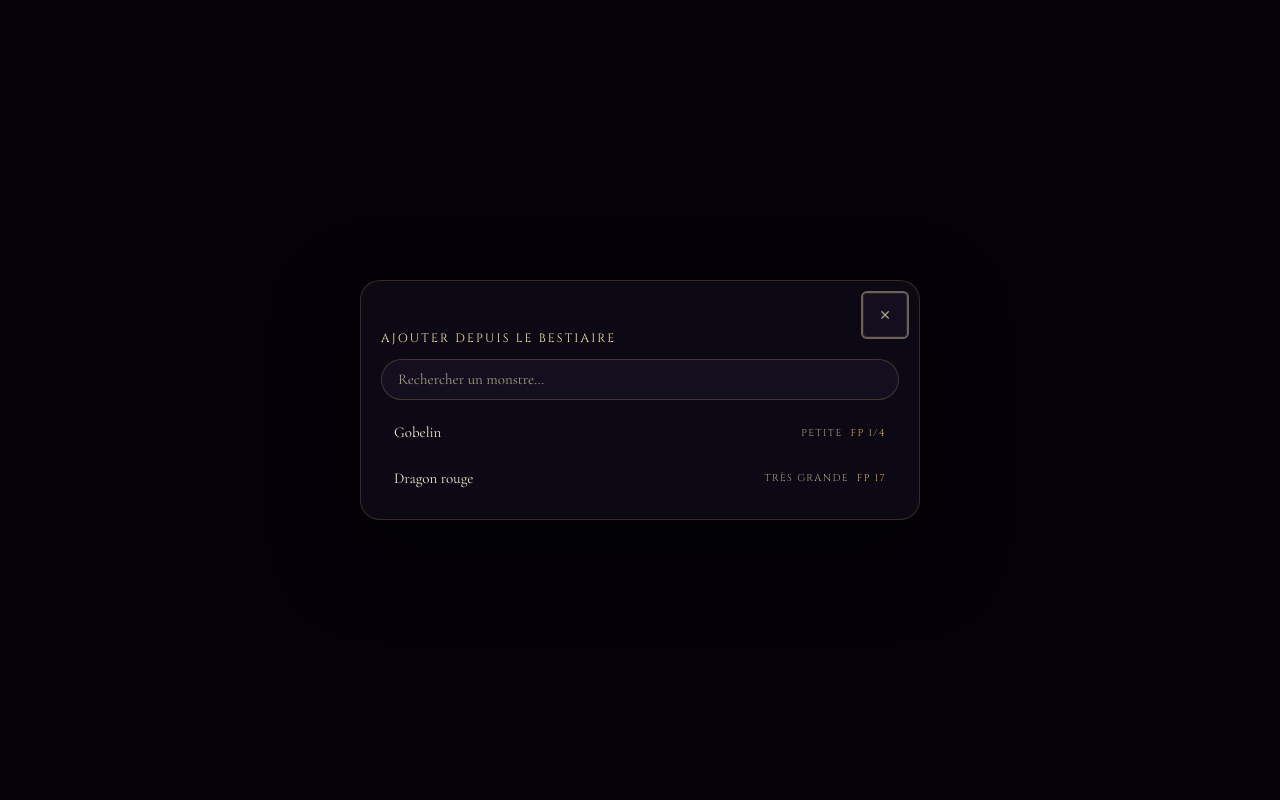
MonsterPickerModal › filtre par nom
This screenshot has width=1280, height=800.
In the search field labelled "Rechercher un monstre": (640, 380) [381,359,899,400], type "dragon"
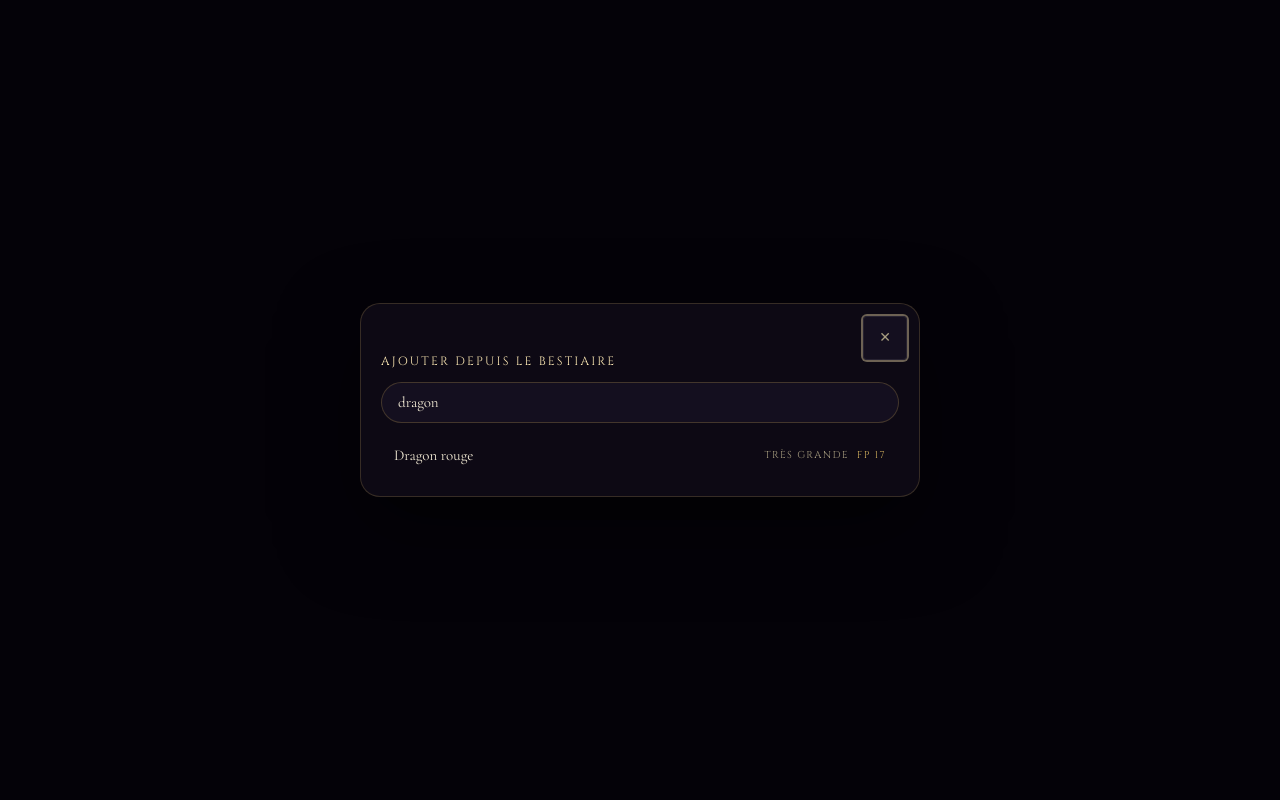
Expected: the text "Dragon rouge" is shown, [394,444,473,467]
Expected: the button "Gobelin" is gone
